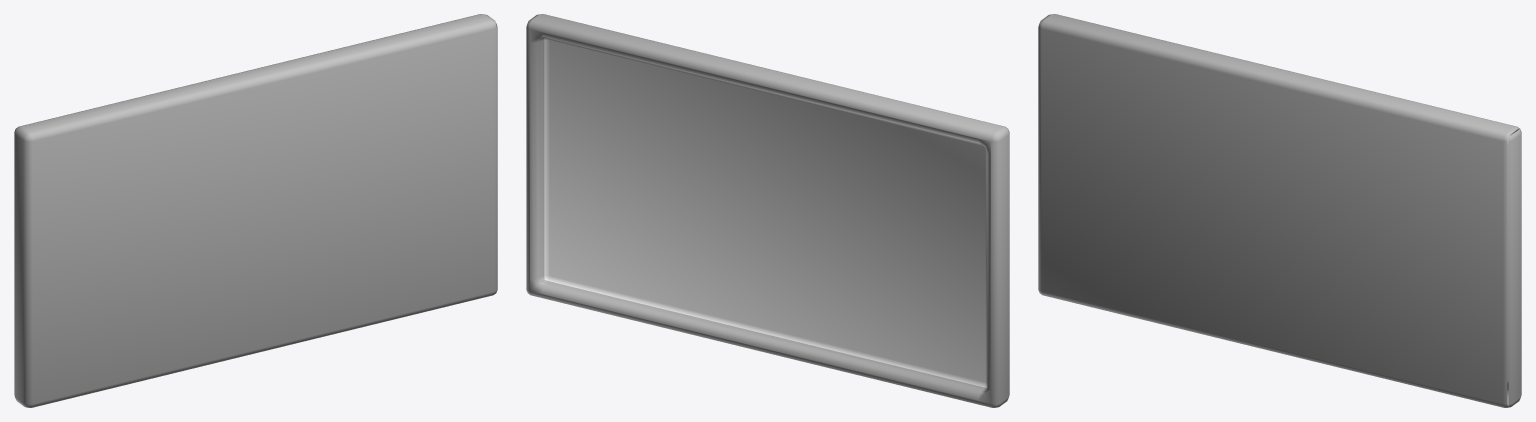
Rendered from Props_Board_01.fbx.
3 views of the same model, side by side, from view 1: azimuth 30°, elevation 25°; view 2: azimuth 150°, elevation 25°; view 3: azimuth 330°, elevation 25° (orthographic).
Parts seen in each view (by area): view 1: Props_Board_01; view 2: Props_Board_01; view 3: Props_Board_01.
Boxes of the visible parts, x1,y1,x2,y2 form: Props_Board_01: [14, 14, 497, 407]; Props_Board_01: [526, 14, 1009, 407]; Props_Board_01: [1038, 14, 1521, 407].
Bounding box in the file's own units: 180 × 100 × 10.
